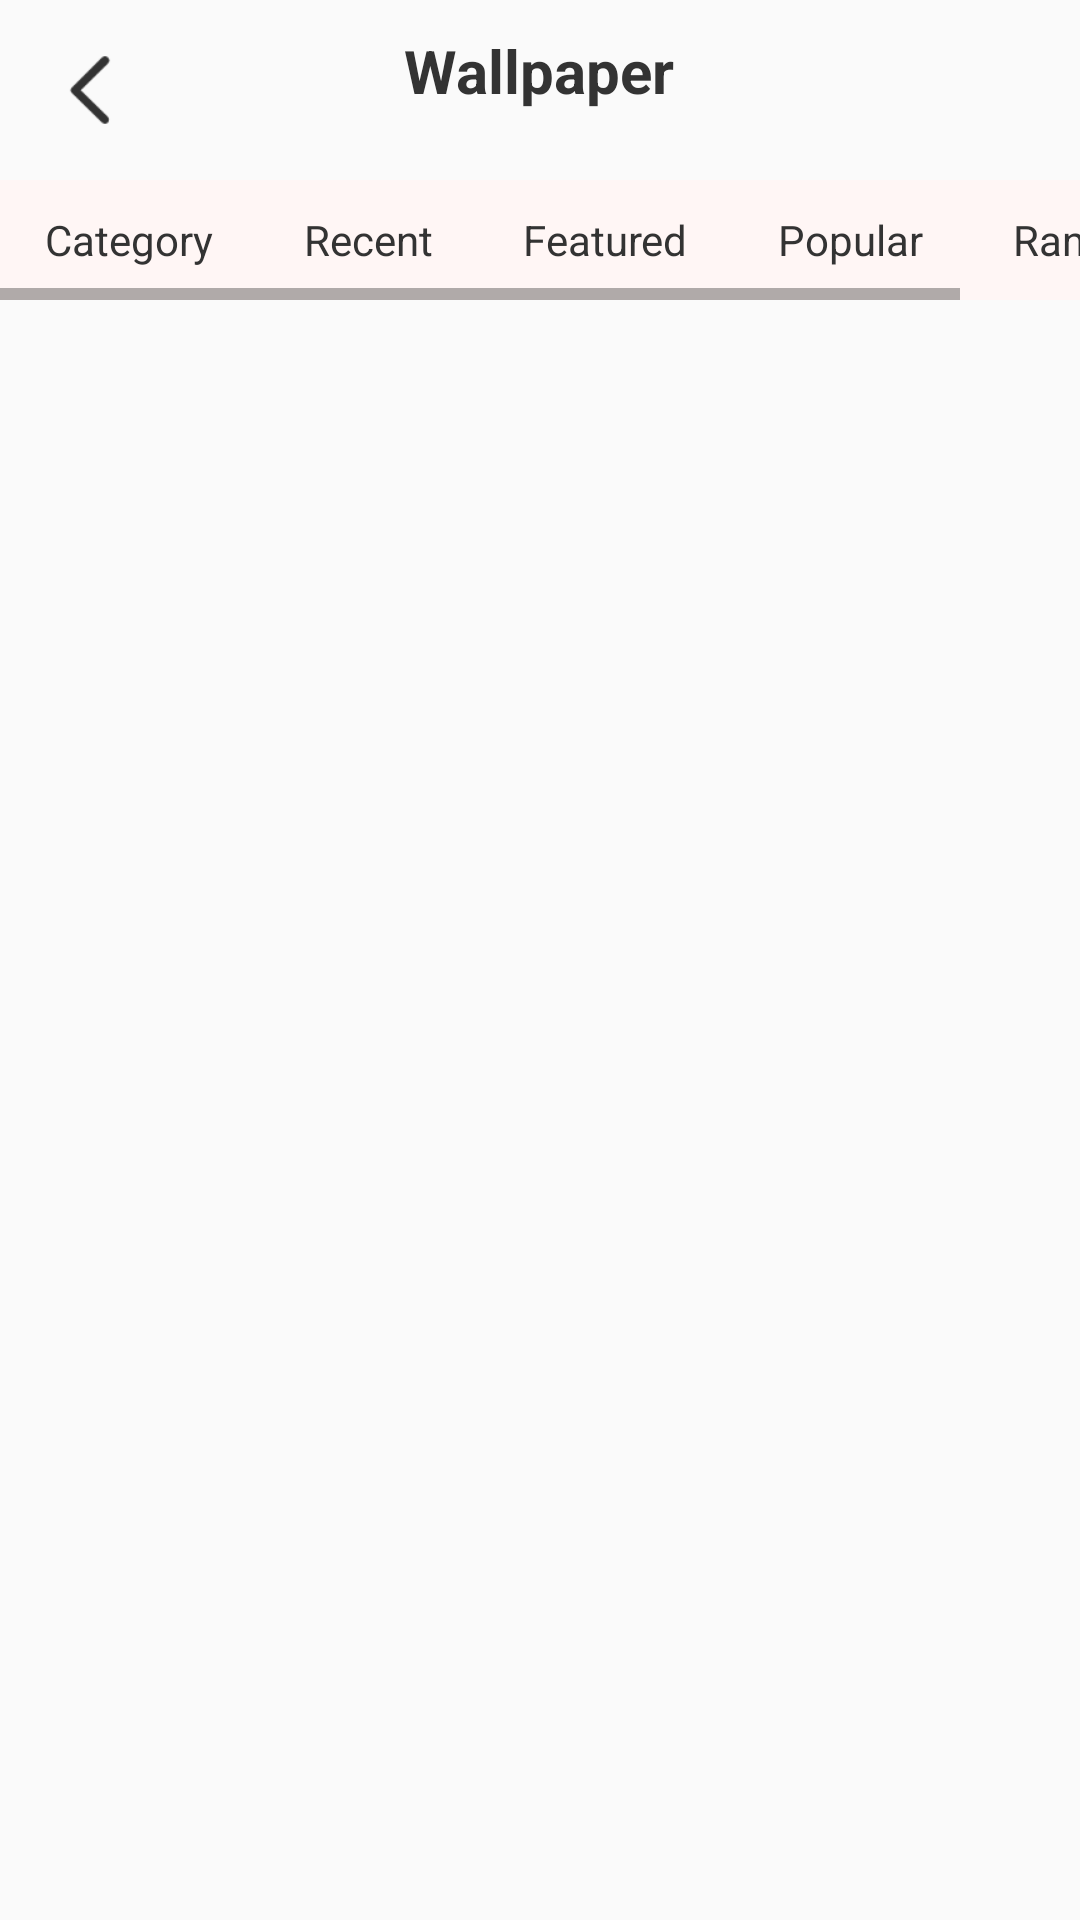

Screen size 1080 x 1920. Icon name, then its center in pixels as (x=x, y=y):
back: (x=90, y=90)
